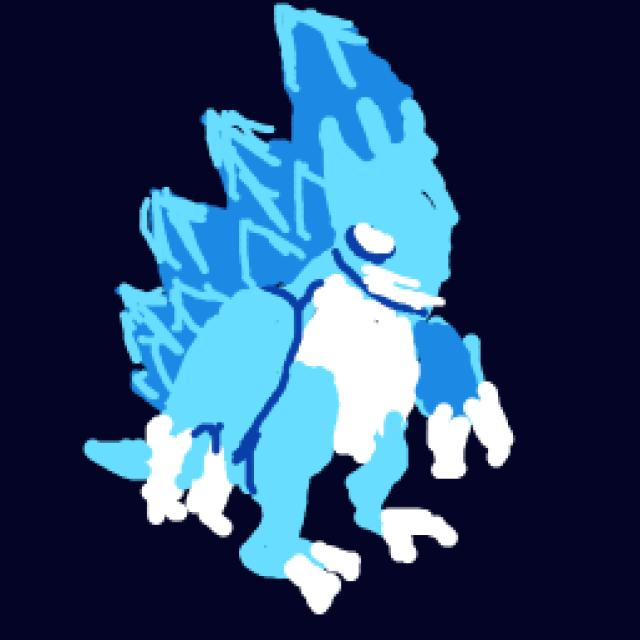Alolan: (135, 48, 512, 616)
